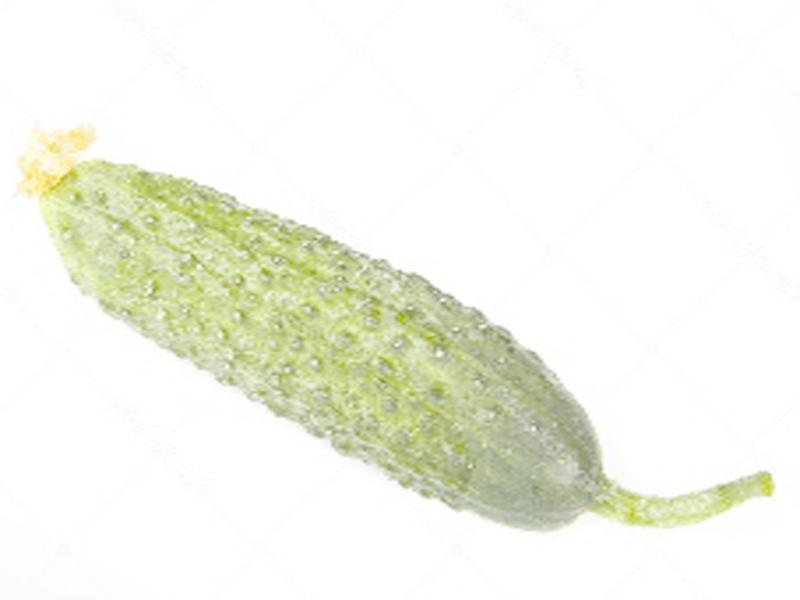Cucumber: (13, 119, 767, 531)
